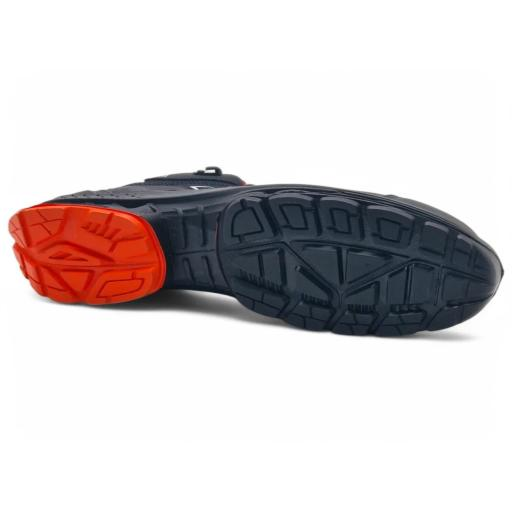safety_boots: (1, 150, 505, 336)
